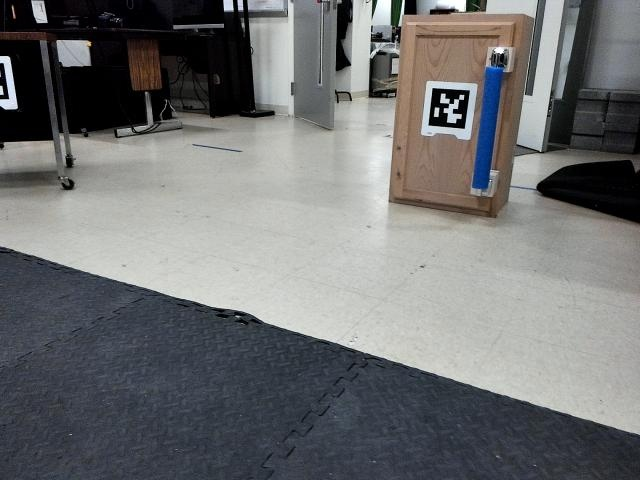noodle_handle: (465, 63, 513, 192)
